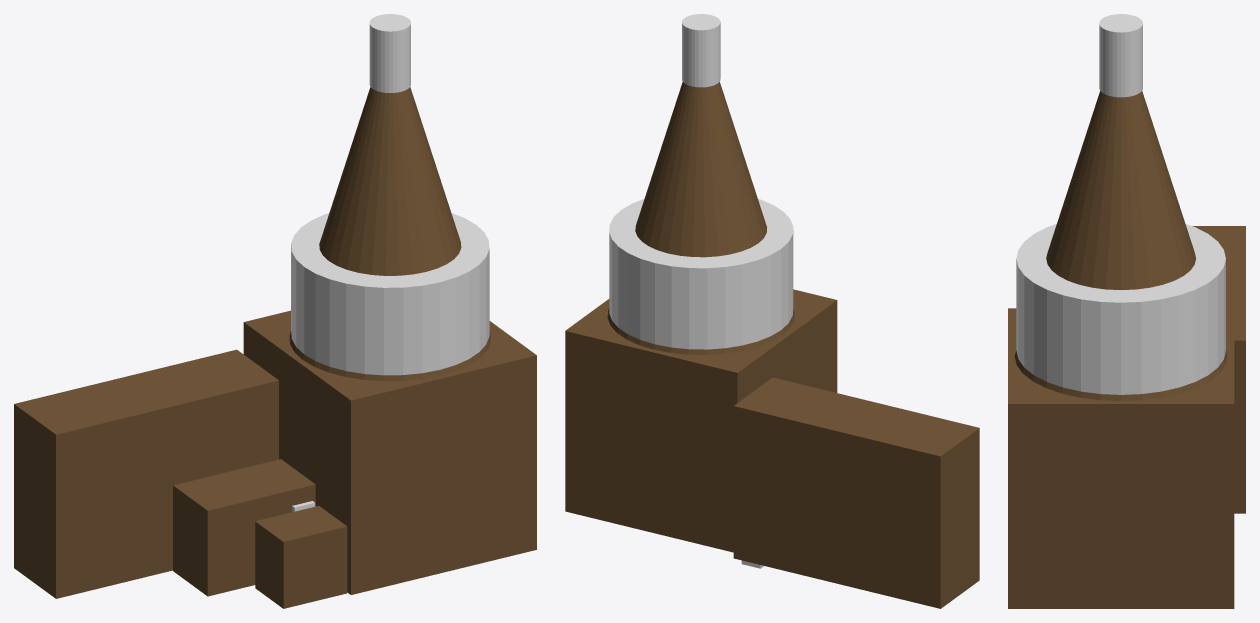
The model's file is fyrtøjetscene2.fbx.
3 views of the same model, side by side, from view 1: azimuth 30°, elevation 25°; view 2: azimuth 150°, elevation 25°; view 3: azimuth 270°, elevation 25° (orthographic). The views are drawn at different scales.
Parts seen in each view (by area): view 1: Cube, Cube.005, Cylinder, Cone, Cube.004, Cube.003, Cylinder.001; view 2: Cube.005, Cube, Cylinder, Cone, Cylinder.001; view 3: Cube, Cylinder, Cone, Cube.005, Cylinder.001.
Boxes of the visible parts, <box> form: Cube: <box>243,310,536,594</box>; Cube.005: <box>14,349,278,598</box>; Cylinder: <box>291,213,489,375</box>; Cone: <box>289,87,491,381</box>; Cube.004: <box>173,459,315,596</box>; Cube.003: <box>255,506,347,608</box>; Cylinder.001: <box>369,14,410,92</box>; Cube.005: <box>733,377,979,608</box>; Cube: <box>565,289,837,552</box>; Cylinder: <box>609,198,793,349</box>; Cone: <box>607,82,794,354</box>; Cylinder.001: <box>682,14,720,87</box>; Cube: <box>1008,308,1234,608</box>; Cylinder: <box>1016,224,1225,394</box>; Cone: <box>1014,91,1227,401</box>; Cube.005: <box>1192,226,1245,513</box>; Cylinder.001: <box>1099,14,1142,97</box>.
Bounding box in the file's own units: 3979 × 4837 × 1897.
